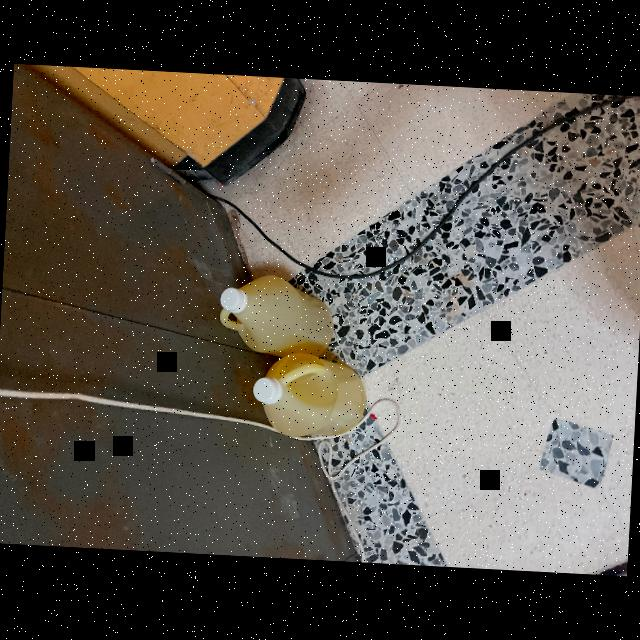chemical_plastic_gallon: (186, 250, 341, 362), (246, 346, 372, 452)
